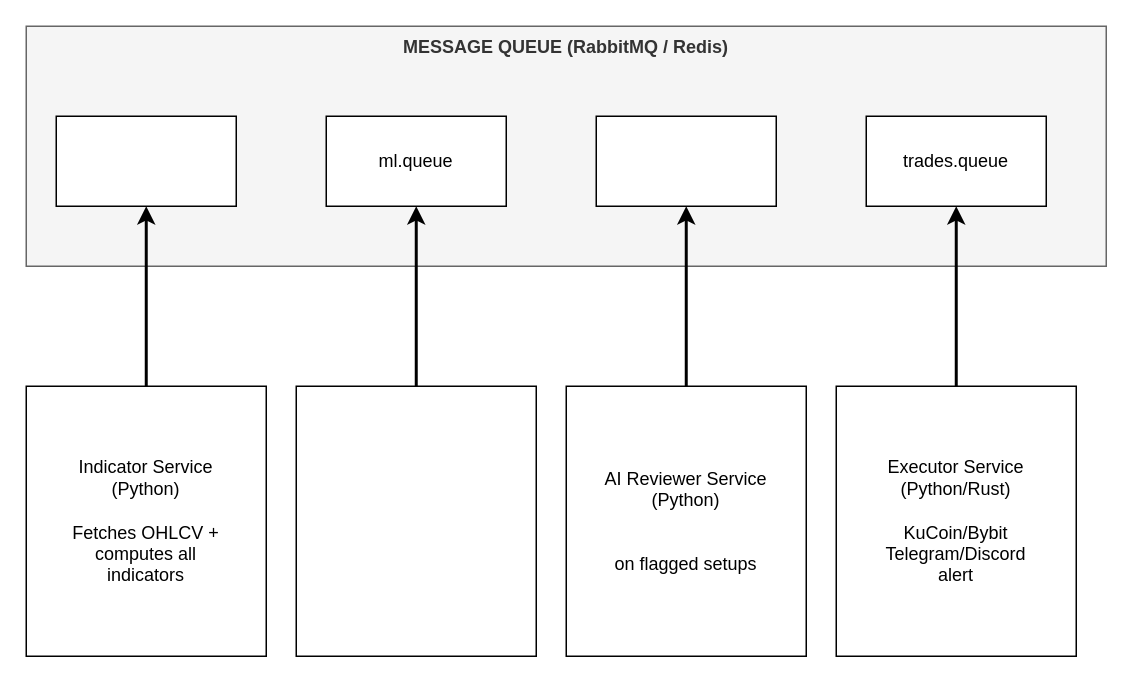
The diagram is 1133 pixels wide and 683 high, and some of its shapes have lost their labels. The centre of each missing label's shape, as x and y in pixels:
indicator.queue: pixel 145 160
ML Screener Service (Python) XGBoost predict on all active tickers: pixel 415 520
signals.queue: pixel 685 160
